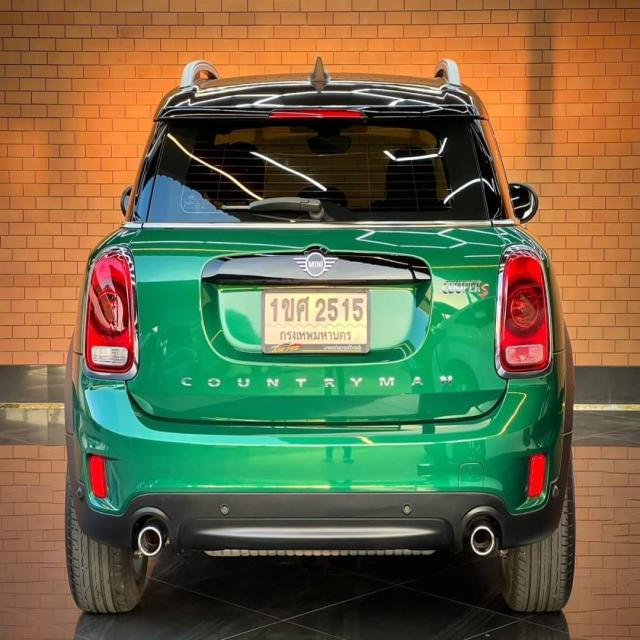license_plate: (261, 278, 372, 357)
